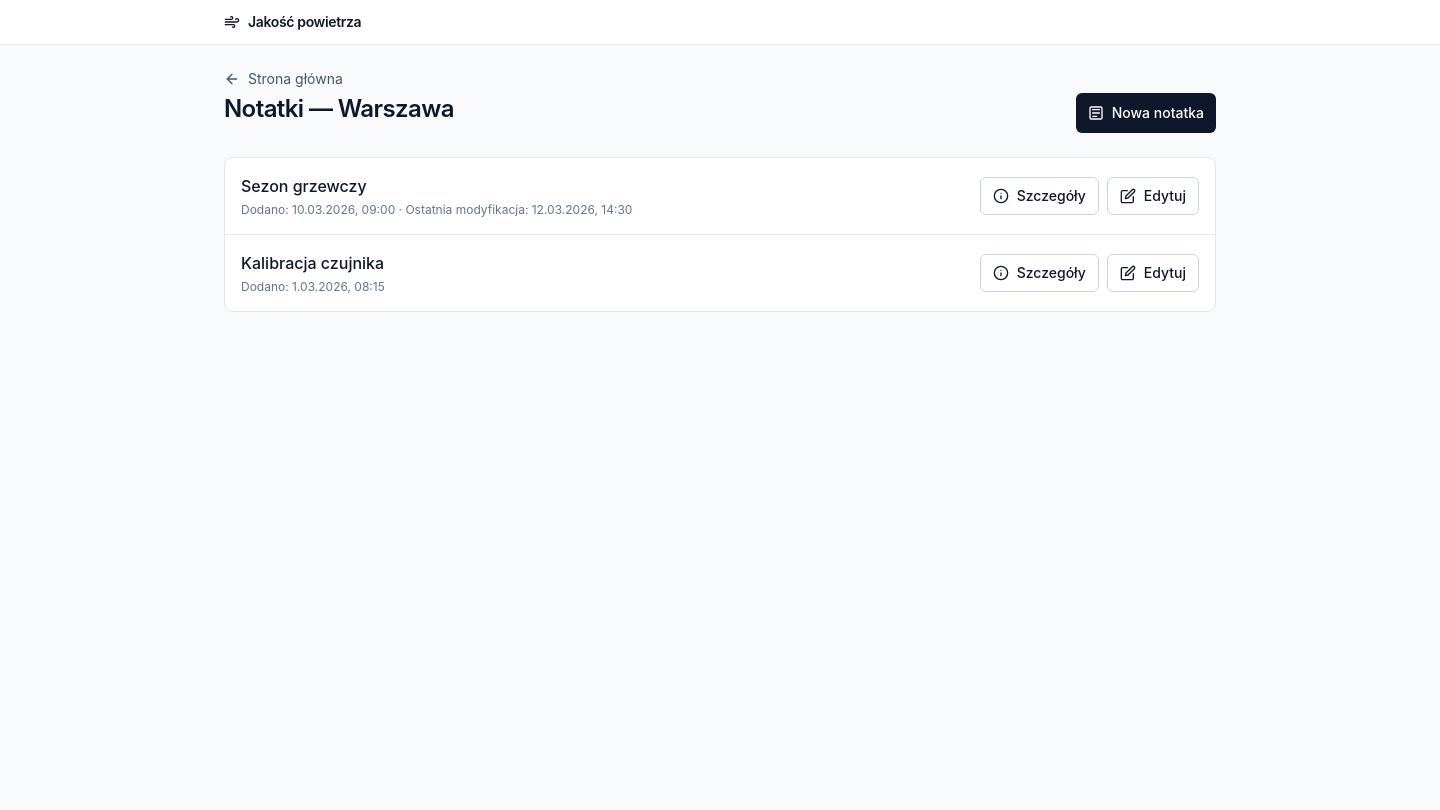
Scenario: cityNotes -> pages -> NotesPage › edits note body and updates modified date label
The width and height of the screenshot is (1440, 810).
Expected: the list item "Kalibracja czujnika" is shown, [241,253,384,273]
Step 1. Click the button "Edytuj" in the row of "Kalibracja czujnika" → (1153, 273), box [1107,254,1199,292]
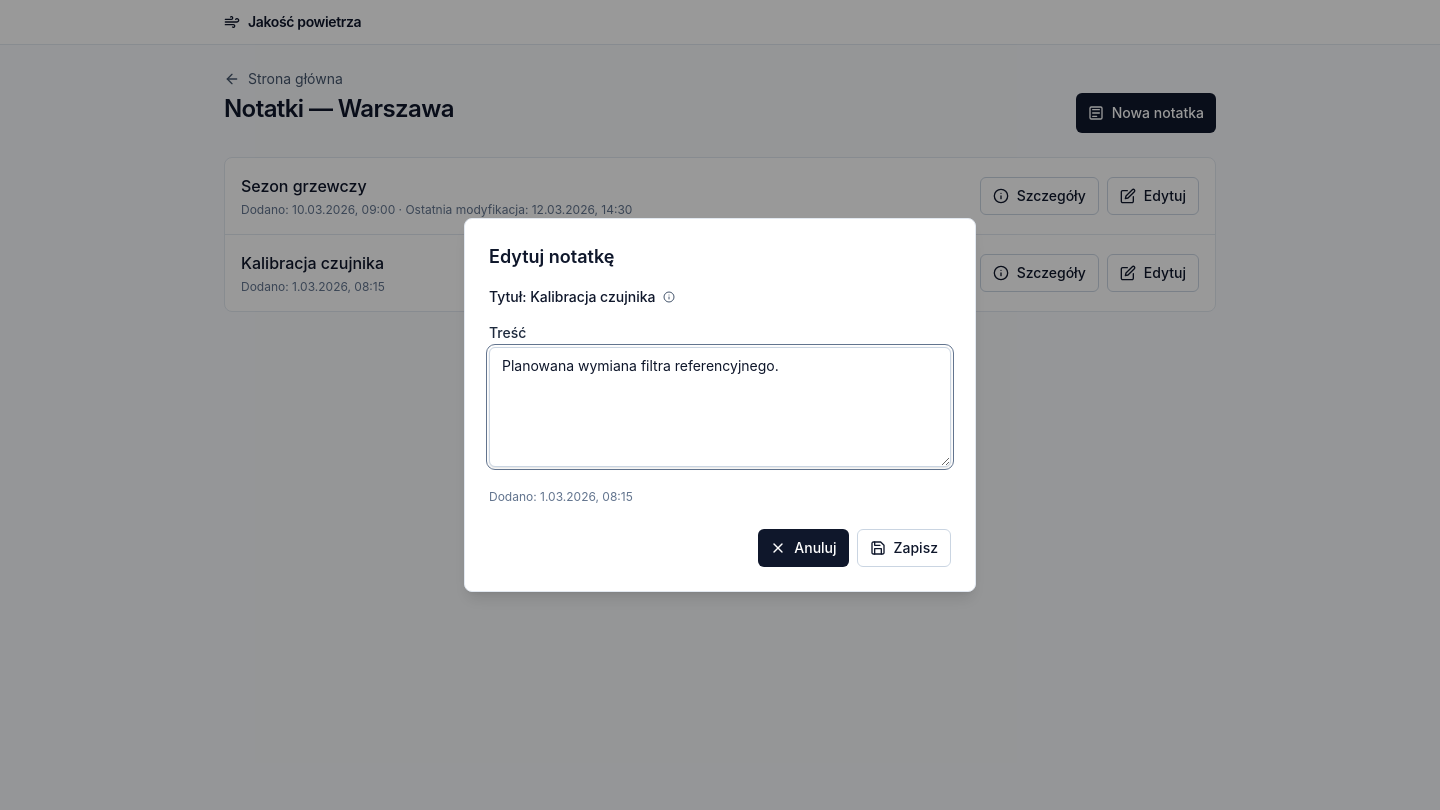
Step 2. Replace the text in the text box labelled "Treść" with "Zaktualizowany opis prac." → (720, 407), box [489,347,951,467]
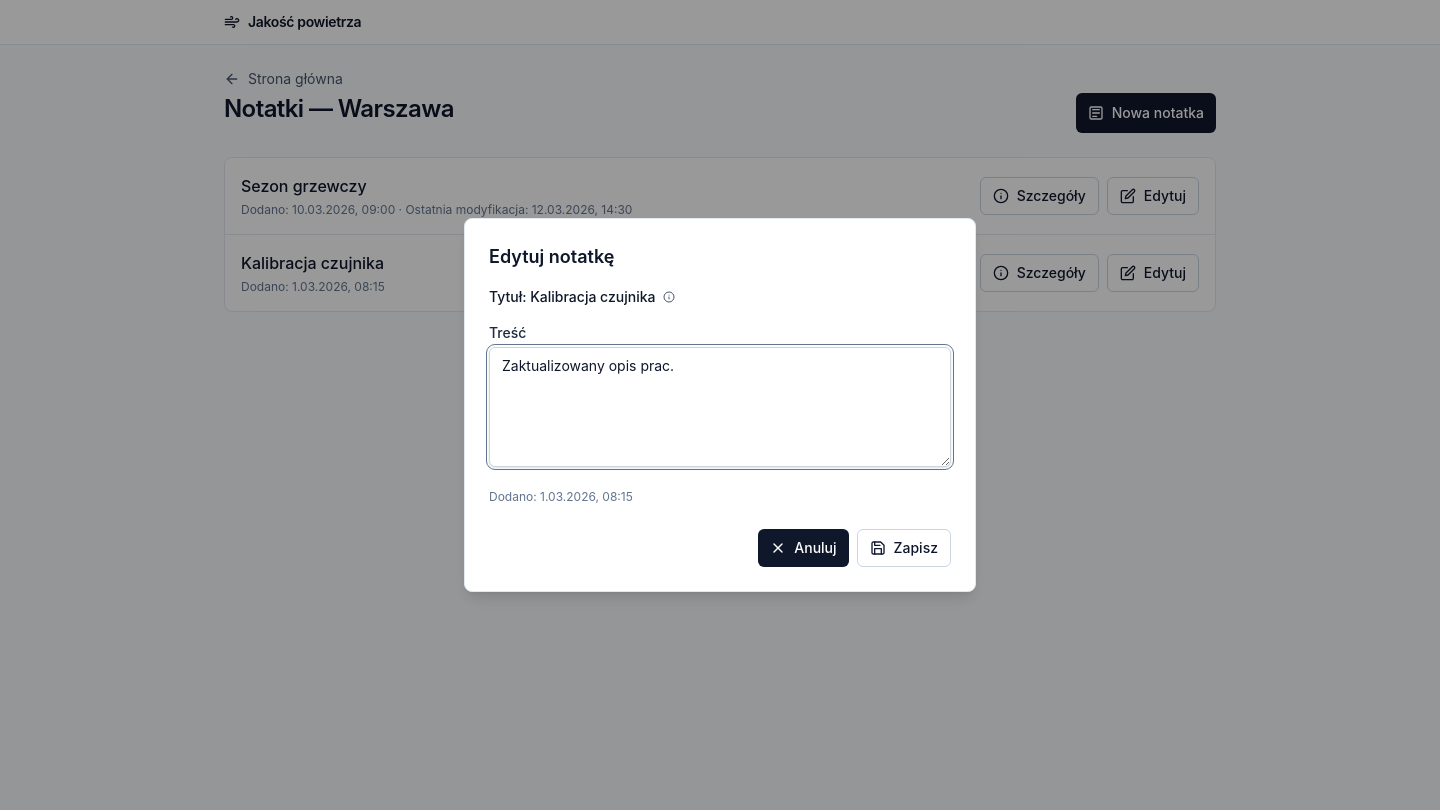
Step 3. Click the button "Zapisz" → (904, 548), box [856,529,951,567]
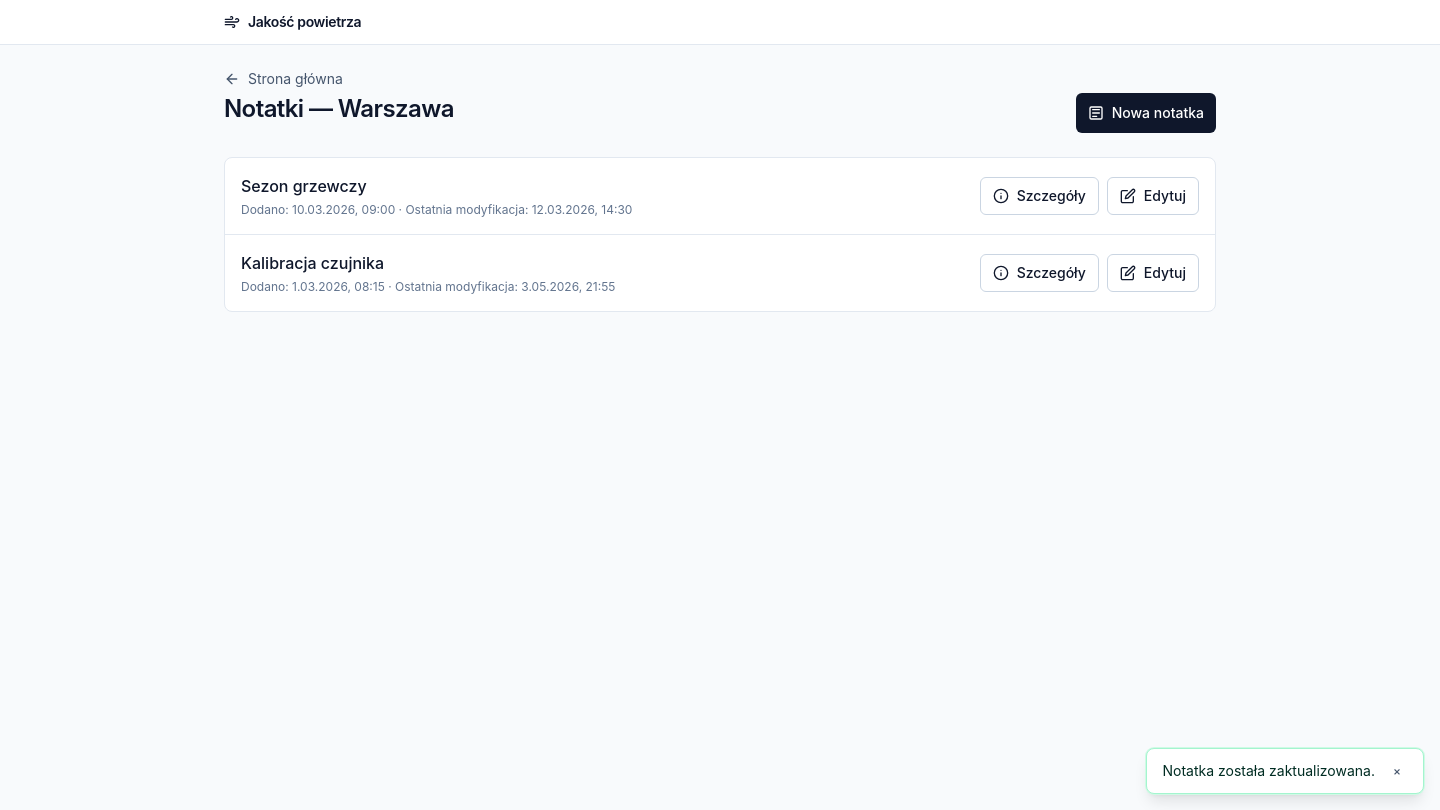
Expected: the list item "Kalibracja czujnika" is shown, [241,253,384,273]
Expected: the heading "Edytuj notatkę" is gone
Step 4. Click the button "Szczegóły" in the row of "Kalibracja czujnika" → (1039, 273), box [980,254,1099,292]
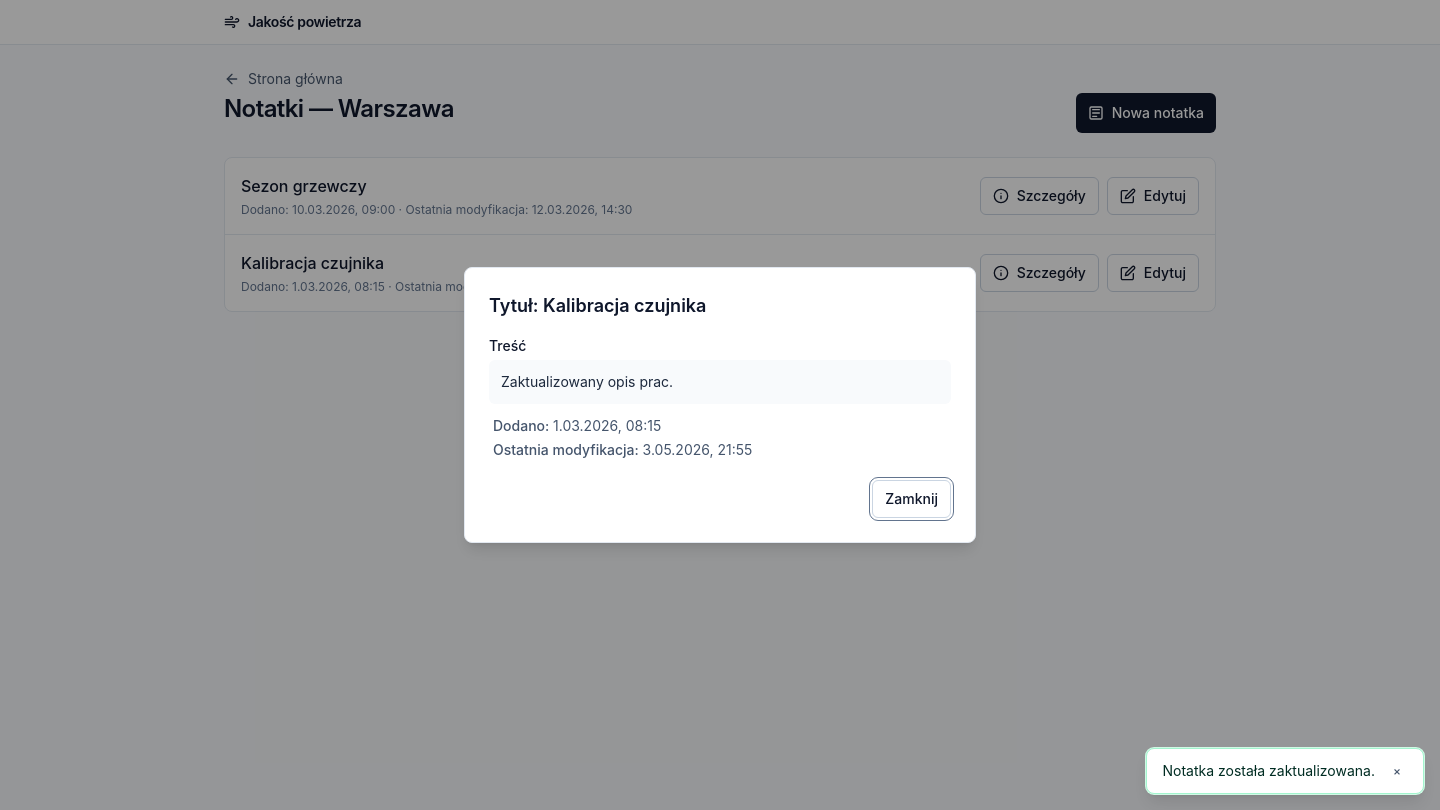
Expected: the text "Zaktualizowany opis prac." is shown, [489,360,951,404]
